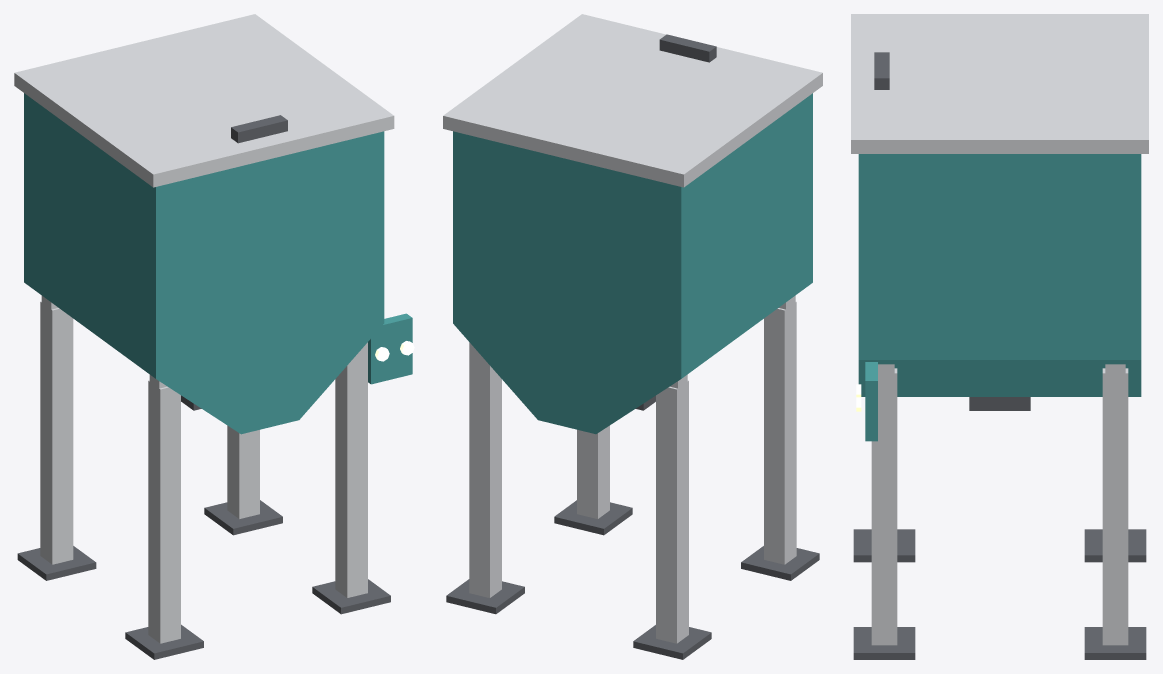
Rendered from chocolate-and-confectionery-factory-ingredient-hopper-2f7c7119__36794.glb.
3 views of the same model, side by side, from view 1: azimuth 30°, elevation 25°; view 2: azimuth 150°, elevation 25°; view 3: azimuth 270°, elevation 25° (orthographic). The views are drawn at different scales.
Parts seen in each view (by area): view 1: ingredient-hopper, lid-hopper/steel, lid-hopper/dark; view 2: ingredient-hopper, lid-hopper/steel, lid-hopper/dark; view 3: ingredient-hopper, lid-hopper/steel, lid-hopper/dark.
Part boxes in pixels (x1,y1,x2,y2): ingredient-hopper: (17, 93, 414, 659); lid-hopper/steel: (14, 14, 394, 187); lid-hopper/dark: (231, 115, 287, 143); ingredient-hopper: (446, 93, 819, 659); lid-hopper/steel: (443, 14, 822, 187); lid-hopper/dark: (659, 34, 716, 62); ingredient-hopper: (853, 154, 1146, 659); lid-hopper/steel: (851, 14, 1148, 153); lid-hopper/dark: (874, 52, 889, 89).
Size of the model in its own units: 1.28 by 2.29 by 1.16.
